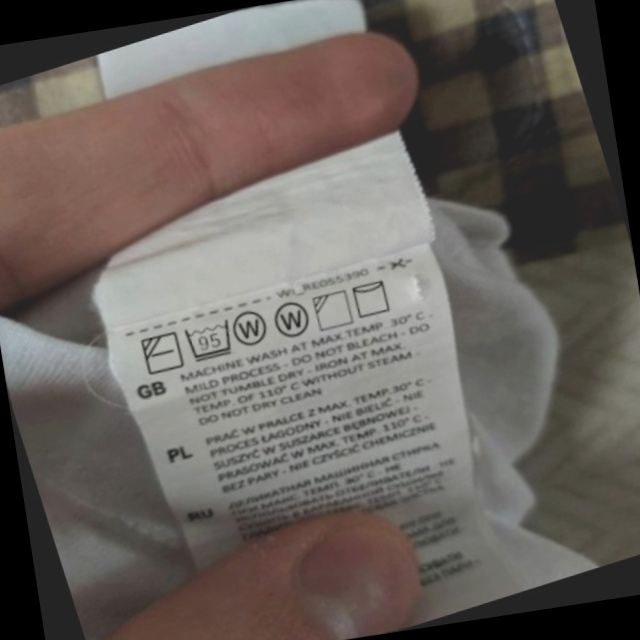95C: (174, 307, 245, 373)
dry_flat_in_shade: (130, 320, 194, 386)
line_dry: (341, 267, 403, 329)
shade_dry: (302, 279, 364, 341)
wet_clean: (263, 290, 322, 350), (222, 296, 280, 357)
